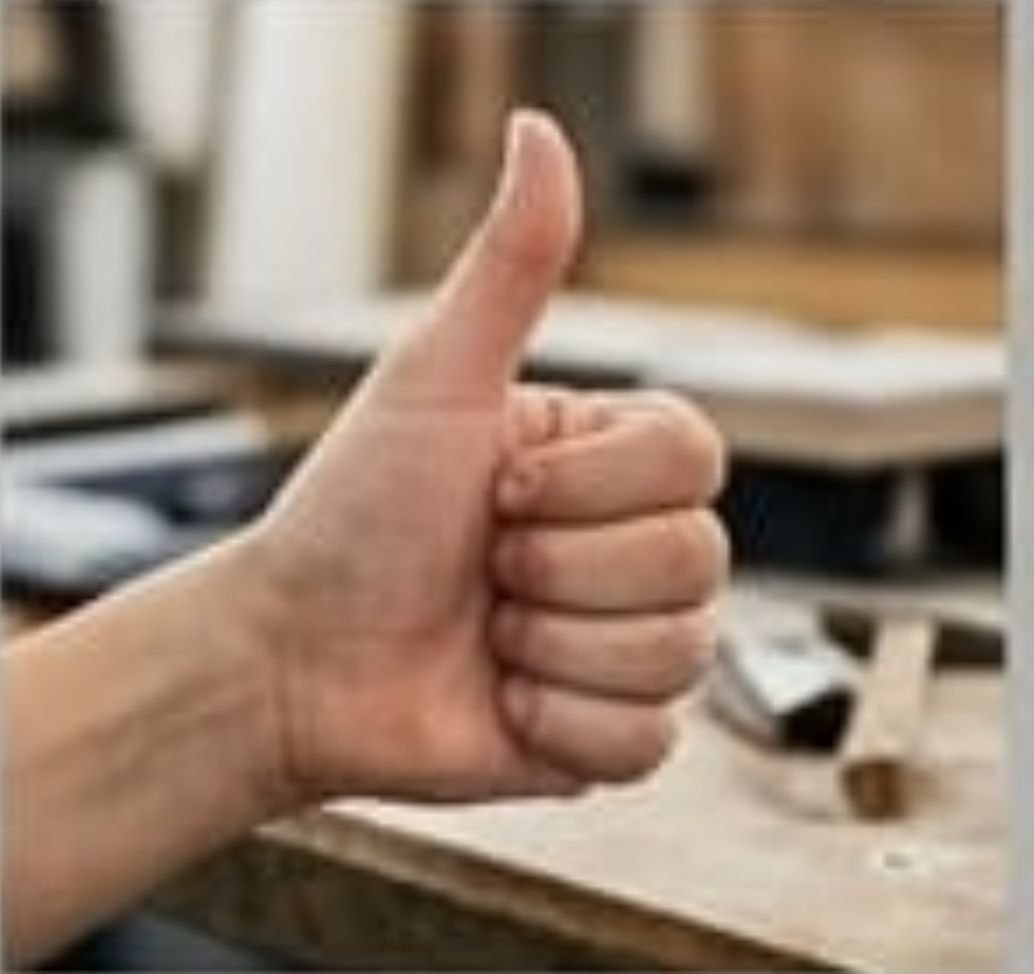Thumbs up: (287, 87, 765, 829)
